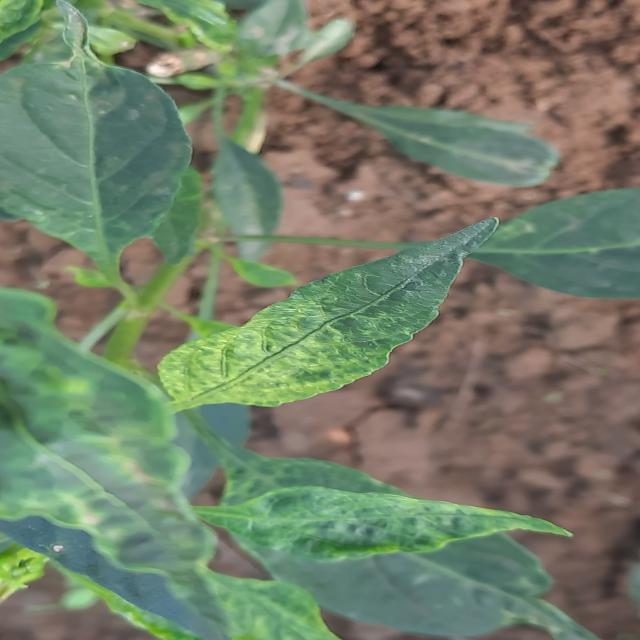thrips: (143, 228, 507, 422), (193, 477, 589, 581)
